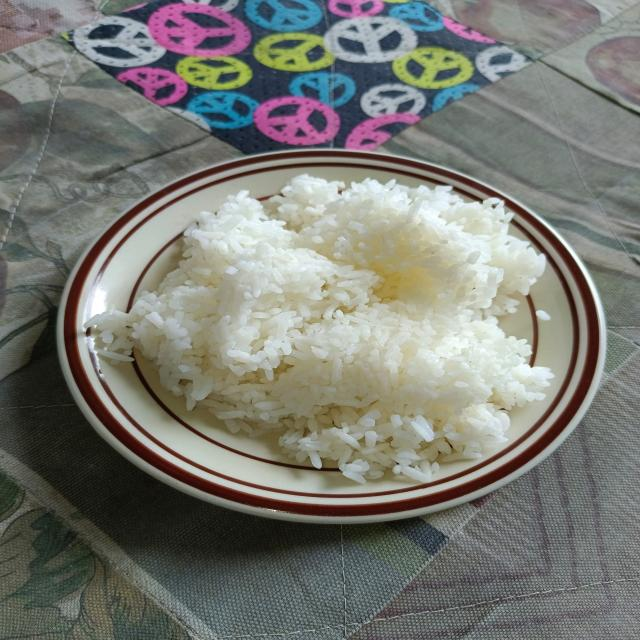Chicken -Chicken Inasal-: (174, 182, 506, 453)
